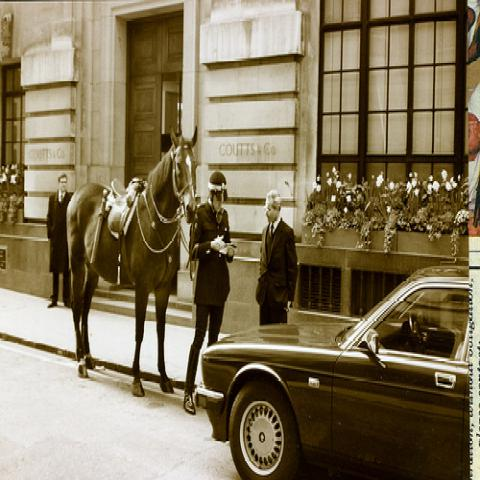car: (191, 264, 470, 478)
